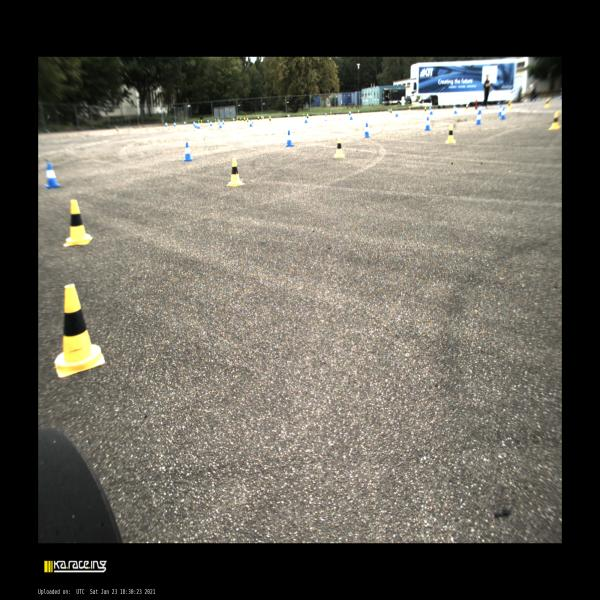blue_cone: (44, 162, 62, 190), (183, 141, 194, 162), (286, 130, 294, 146), (474, 109, 482, 125), (364, 122, 371, 138), (424, 115, 430, 131), (500, 107, 506, 120), (497, 105, 502, 116), (478, 105, 482, 114), (249, 119, 253, 127), (304, 115, 308, 123), (454, 106, 458, 114), (197, 122, 201, 129), (429, 108, 433, 115), (395, 109, 398, 117), (219, 121, 222, 128), (350, 112, 352, 120), (165, 122, 168, 127), (195, 122, 197, 128), (210, 120, 212, 126), (222, 119, 224, 125), (174, 121, 176, 126), (193, 121, 195, 126), (388, 108, 390, 113), (207, 119, 209, 123), (218, 120, 220, 124), (325, 112, 327, 116), (429, 106, 431, 110), (184, 121, 185, 125), (233, 118, 234, 121)
yellow_cone: (55, 284, 105, 378), (64, 200, 92, 248), (226, 158, 245, 186), (548, 111, 561, 130), (334, 137, 345, 158), (446, 122, 456, 144), (544, 98, 550, 108), (507, 100, 511, 110), (268, 116, 271, 124), (424, 106, 427, 114), (246, 118, 249, 125), (348, 111, 351, 118), (306, 113, 308, 122), (302, 113, 305, 119), (390, 108, 392, 116), (244, 117, 246, 124), (236, 116, 238, 122), (258, 116, 260, 122), (358, 109, 360, 115), (466, 105, 468, 111), (200, 120, 202, 125), (330, 111, 332, 116), (198, 120, 200, 124), (217, 119, 219, 123), (215, 118, 216, 124), (240, 117, 241, 123), (261, 116, 262, 122), (409, 107, 411, 110)
